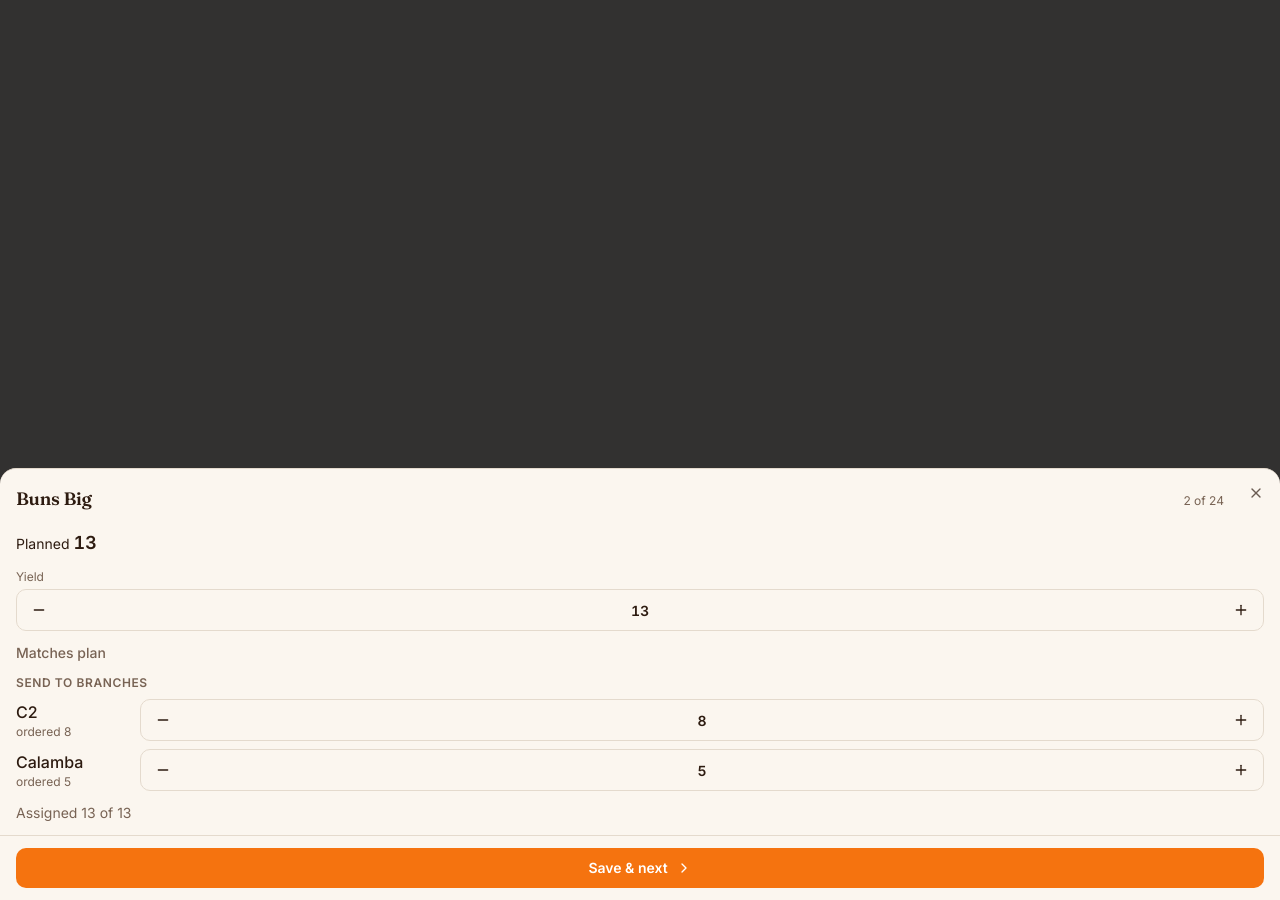
Test: BoardSheet › says how the yield compares with the plan
The width and height of the screenshot is (1280, 900).
Check: the text "Matches plan" is shown, box top-left (16, 644), bottom-right (106, 661)
Replace the text in the field named "Yield" with "15" at (640, 610), box top-left (61, 590), bottom-right (1219, 630)
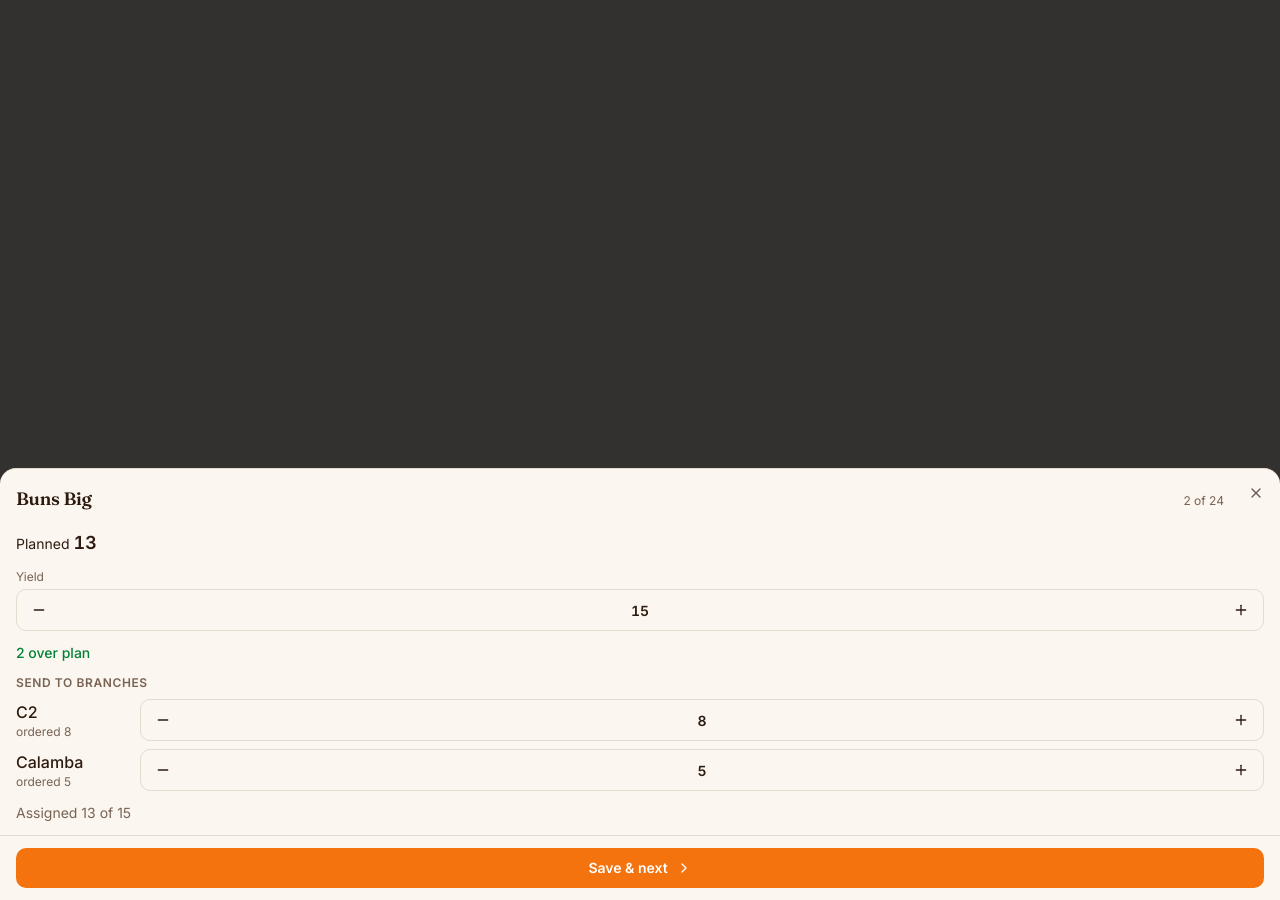
Check: the text "2 over plan" is shown, box top-left (16, 644), bottom-right (90, 661)
